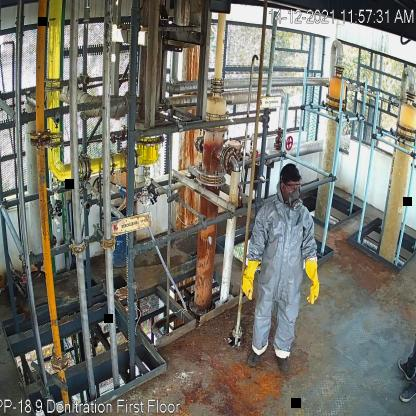goggles: (287, 182, 302, 192)
mask: (287, 190, 305, 214)
